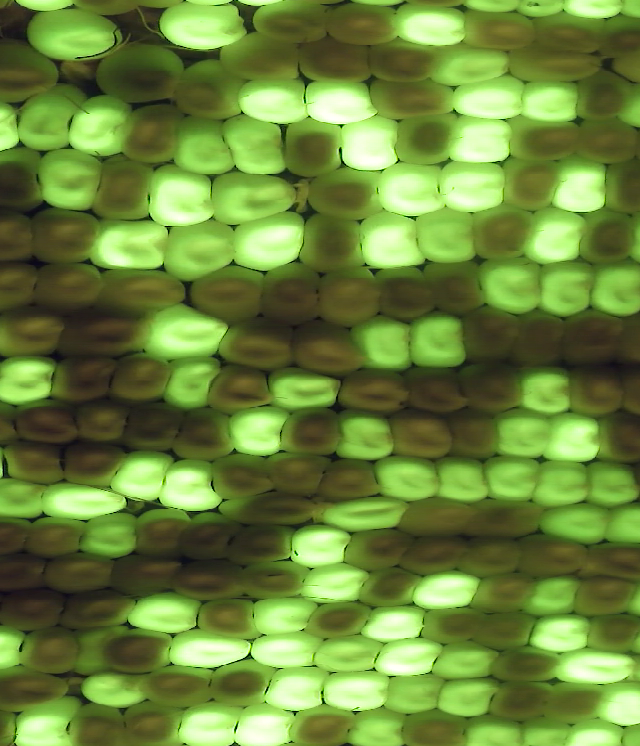fluorescent: (25, 5, 135, 67), (136, 299, 230, 368), (11, 75, 89, 158), (86, 212, 178, 276), (208, 167, 300, 230), (226, 207, 312, 274), (158, 218, 247, 282), (33, 144, 109, 218), (154, 1, 254, 57), (141, 160, 219, 230), (346, 308, 421, 379), (423, 39, 521, 93), (68, 89, 139, 162), (220, 111, 293, 181), (356, 205, 429, 275), (518, 199, 591, 269), (233, 69, 315, 131), (475, 250, 552, 316), (301, 74, 388, 132), (405, 301, 475, 373), (170, 109, 240, 180), (433, 156, 513, 217), (411, 207, 486, 272), (165, 626, 264, 675), (150, 454, 228, 516), (444, 71, 535, 124), (375, 159, 453, 220), (334, 111, 406, 176), (36, 479, 135, 526), (549, 148, 615, 218), (5, 692, 89, 746), (318, 490, 415, 536), (158, 349, 226, 414), (329, 403, 400, 465), (222, 402, 295, 462), (389, 2, 476, 52), (533, 497, 615, 550), (370, 449, 449, 504), (107, 445, 178, 506), (490, 402, 556, 467), (428, 448, 495, 512), (441, 111, 516, 167), (532, 259, 600, 320), (262, 366, 346, 415), (77, 667, 162, 715), (295, 559, 376, 609), (550, 644, 640, 689), (535, 409, 606, 466), (307, 632, 394, 678), (125, 588, 206, 637), (407, 566, 487, 615), (284, 519, 355, 573), (245, 592, 328, 638), (72, 508, 145, 560), (69, 618, 131, 679), (515, 76, 586, 129), (525, 458, 594, 512), (515, 359, 576, 420), (0, 350, 65, 407), (527, 608, 598, 660), (433, 672, 503, 724), (479, 451, 546, 505), (319, 667, 397, 713), (259, 662, 330, 712), (174, 696, 245, 746), (433, 638, 503, 688), (247, 628, 326, 671), (587, 258, 640, 321), (231, 699, 302, 746), (584, 454, 640, 513), (521, 570, 585, 621), (374, 635, 446, 680), (340, 706, 417, 746), (358, 603, 429, 645), (381, 671, 448, 714), (0, 472, 51, 525), (459, 712, 533, 746), (557, 714, 631, 746), (593, 679, 640, 729), (601, 499, 640, 549), (516, 713, 575, 746), (0, 620, 33, 673)
nonfluorescent: (92, 37, 195, 110), (210, 312, 305, 380), (47, 304, 160, 361), (184, 259, 275, 328), (168, 53, 254, 126), (291, 206, 375, 278), (253, 255, 331, 332), (87, 264, 194, 319), (85, 149, 159, 228), (285, 314, 371, 381), (115, 92, 188, 170), (23, 201, 105, 270), (218, 26, 308, 88), (312, 260, 388, 331), (557, 303, 634, 373), (503, 107, 591, 168), (365, 70, 462, 125), (305, 163, 391, 225), (502, 38, 605, 89), (469, 200, 545, 269), (413, 256, 496, 319), (214, 485, 327, 531), (451, 356, 533, 419), (386, 109, 469, 171), (393, 359, 477, 420), (199, 357, 281, 419), (162, 404, 245, 465), (367, 262, 444, 327), (456, 1, 548, 55), (332, 364, 419, 421), (29, 258, 112, 317), (383, 401, 458, 465), (365, 31, 447, 89), (507, 530, 595, 584), (41, 349, 120, 409), (293, 33, 377, 89), (170, 552, 252, 609), (0, 301, 73, 365), (273, 401, 352, 460), (460, 495, 553, 545), (256, 447, 342, 501), (52, 582, 143, 633), (5, 394, 86, 451), (0, 39, 65, 110), (455, 303, 527, 367), (495, 152, 567, 215), (15, 619, 88, 681), (276, 116, 346, 180), (104, 548, 190, 600), (105, 344, 172, 410), (562, 358, 632, 421), (101, 622, 178, 679), (507, 306, 575, 370), (0, 661, 75, 719), (129, 502, 198, 565), (39, 545, 119, 599), (0, 140, 55, 218), (436, 406, 511, 463), (337, 523, 419, 575), (56, 435, 132, 491), (205, 656, 281, 712), (393, 494, 485, 540), (135, 663, 223, 711), (316, 1, 405, 48), (575, 204, 640, 268), (0, 436, 73, 492), (204, 449, 281, 502), (251, 1, 336, 49), (119, 399, 187, 458), (222, 518, 299, 570), (537, 677, 611, 731), (484, 639, 569, 686), (172, 506, 242, 563), (484, 676, 564, 725), (235, 555, 316, 603), (311, 456, 390, 505), (0, 581, 69, 636), (568, 569, 637, 624), (67, 395, 137, 449), (18, 513, 95, 562), (528, 9, 608, 56), (571, 115, 640, 169), (452, 532, 528, 581), (193, 594, 268, 643), (282, 701, 362, 746), (356, 561, 425, 613), (571, 68, 640, 120), (302, 597, 379, 643), (572, 537, 640, 589), (396, 532, 472, 578), (119, 699, 193, 746), (59, 700, 133, 746), (470, 569, 544, 614), (419, 603, 491, 649), (471, 608, 542, 654), (393, 708, 478, 746), (589, 408, 640, 469), (0, 199, 45, 266), (0, 256, 47, 319), (581, 610, 640, 659), (0, 547, 56, 597), (600, 155, 640, 219), (595, 10, 640, 62), (0, 510, 37, 566), (610, 45, 640, 88)
